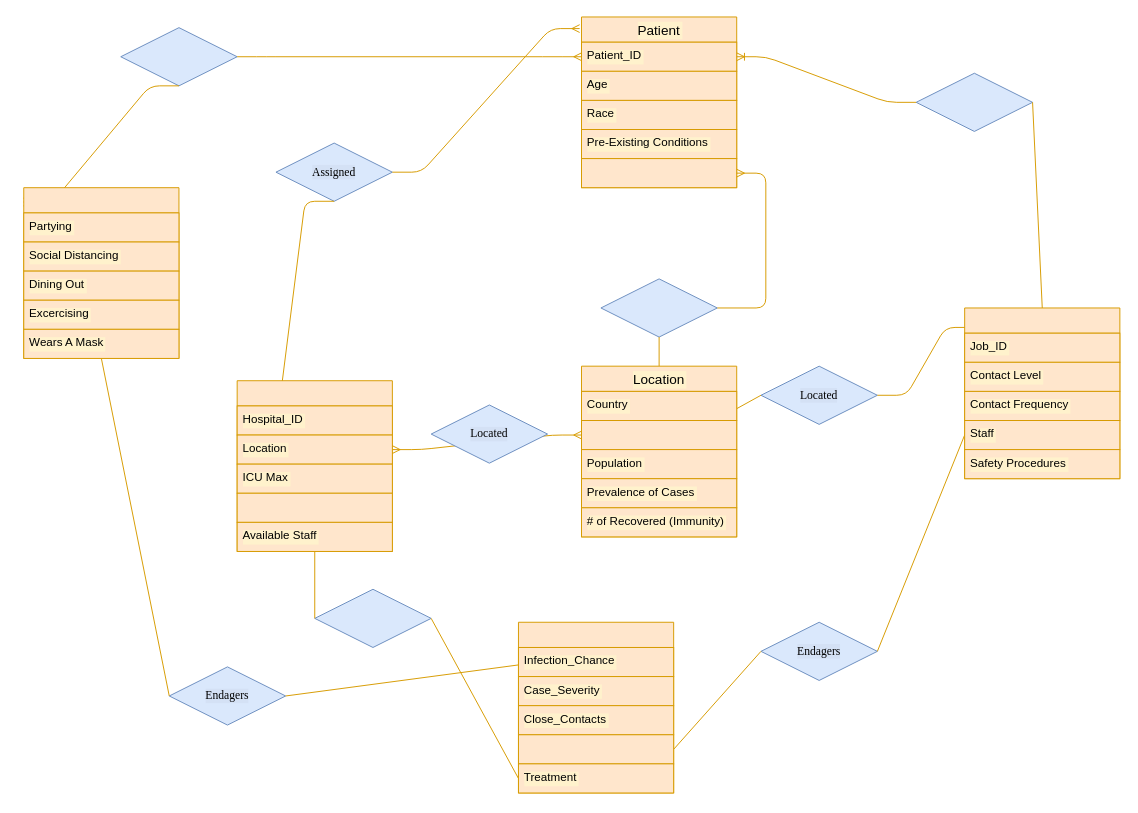
Image size: 1138x813. Some labels were removed from this diagram. The box of each missing label's shape, as (x1, y1, x2, y2) in pixels:
Behaves: (120, 27, 237, 86)
Behavior: (23, 187, 179, 358)
City: (581, 420, 737, 450)
Hospitals: (236, 380, 392, 551)
Interactions: (517, 734, 674, 764)
Living: (600, 278, 717, 337)
Occupation: (964, 307, 1120, 479)
Patients: (236, 492, 392, 522)
Risk: (517, 621, 674, 793)
Sex: (581, 158, 737, 188)
Treats: (314, 588, 431, 647)
Works: (915, 72, 1033, 131)
